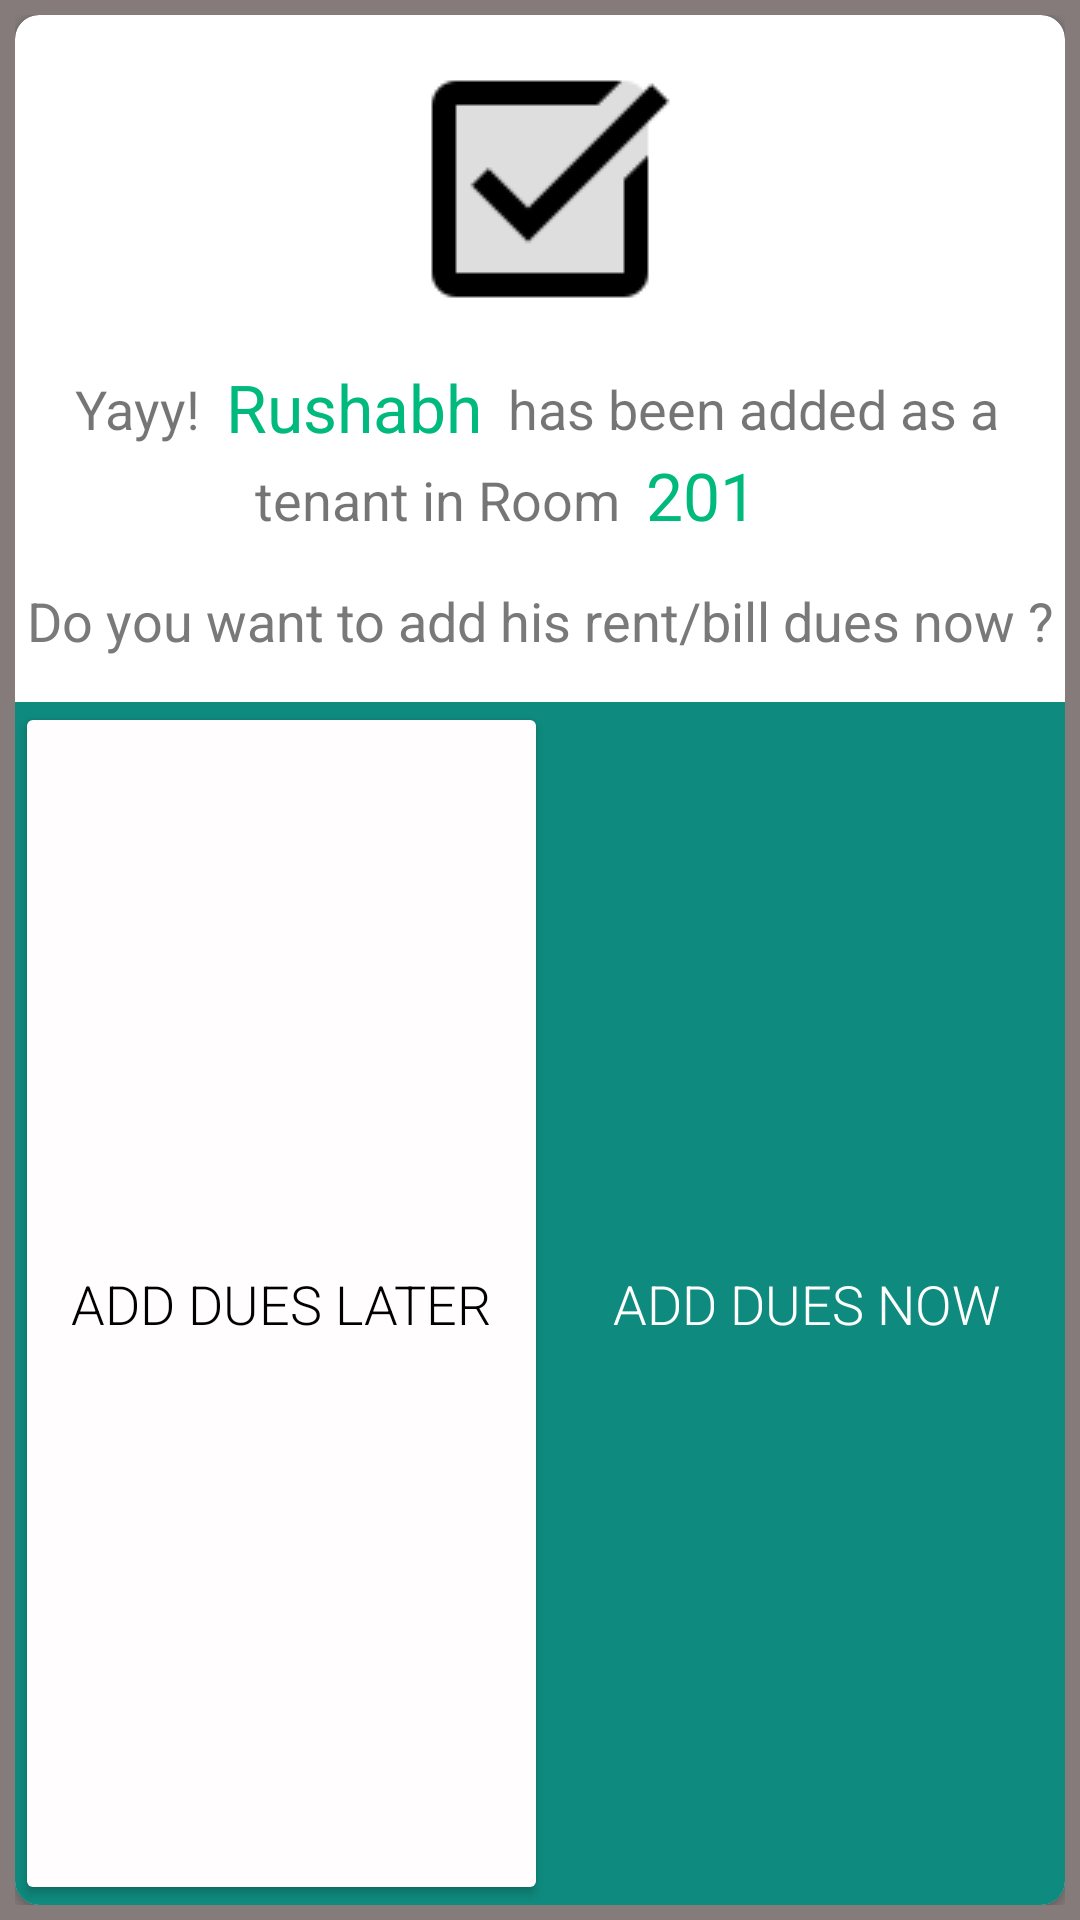

Where icons sit on this 1080×1920 app screen, as bbox=(x1, y1, x2, y2):
tick: bbox=(431, 80, 670, 298)
